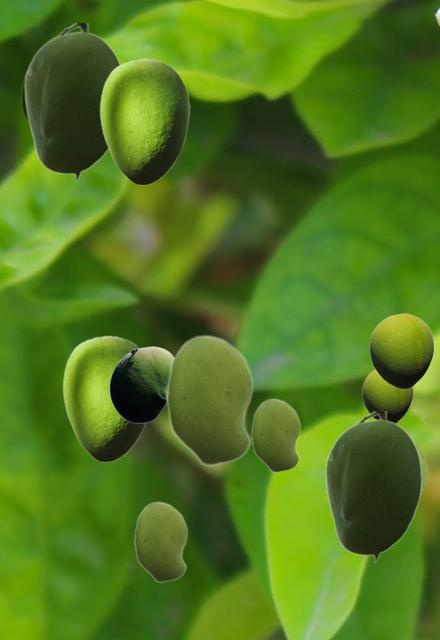green_mango: (23, 23, 120, 181), (324, 411, 421, 562), (166, 334, 253, 466), (99, 58, 189, 184), (62, 335, 148, 461), (109, 346, 173, 422), (369, 313, 433, 388), (134, 501, 187, 582), (251, 398, 300, 472), (362, 369, 412, 422), (408, 432, 426, 492), (21, 75, 26, 119)
